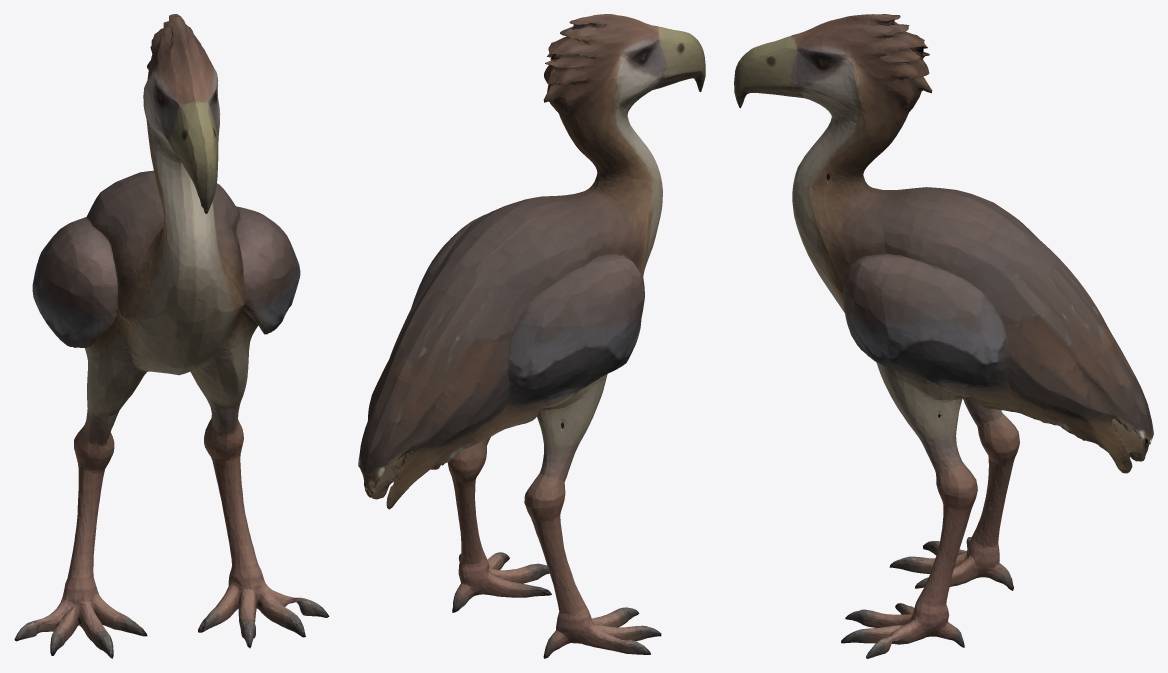
3 renders of one model, left to right at view 1: azimuth 30°, elevation 25°; view 2: azimuth 150°, elevation 25°; view 3: azimuth 270°, elevation 25°, orthographic. The views are drawn at different scales.
Visible parts, largest first — view 1: world; view 2: world; view 3: world.
Part boxes in pixels (bbox=[...]): world: bbox=[14, 14, 329, 658]; world: bbox=[358, 14, 705, 658]; world: bbox=[734, 14, 1153, 658].
Bounding box in the file's own units: 1.03 × 2.4 × 1.55.
Materials: 1 (1 with a texture image).
